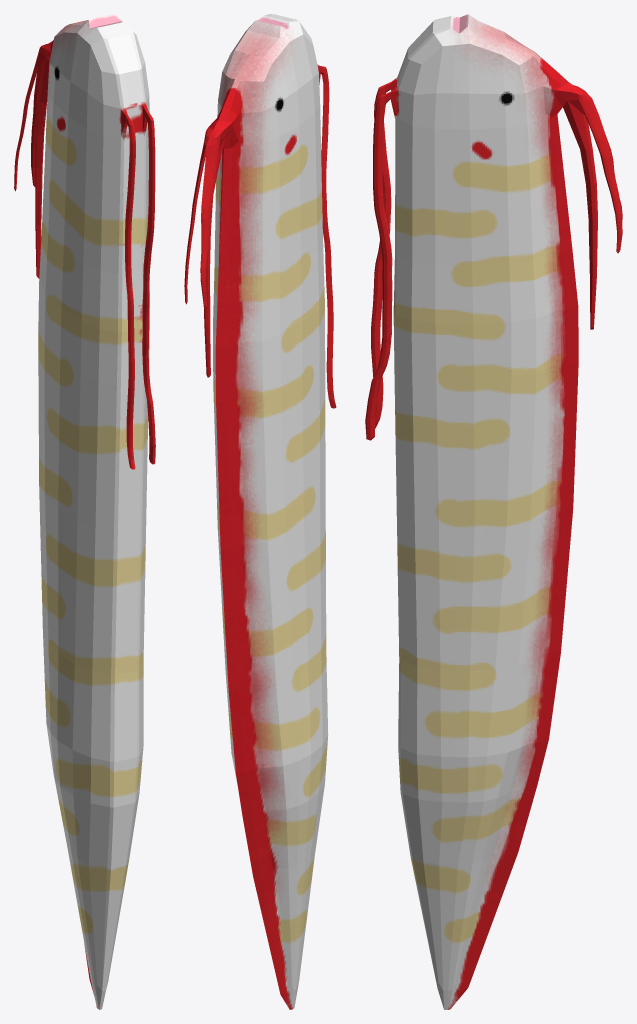
The model's file is hairtail.fbx.
3 renders of one model, left to right at view 1: azimuth 30°, elevation 25°; view 2: azimuth 150°, elevation 25°; view 3: azimuth 270°, elevation 25°, orthographic.
Visible parts, largest first — view 1: node_id4; view 2: node_id4; view 3: node_id4.
Part boxes in pixels (x1=…): node_id4: x1=14, y1=14, x2=155, y2=1009; node_id4: x1=184, y1=14, x2=336, y2=1009; node_id4: x1=365, y1=14, x2=622, y2=1009.
Bounding box in the file's own units: 0.0393 × 0.5098 × 0.1195.
Materials: 1 (1 with a texture image).
